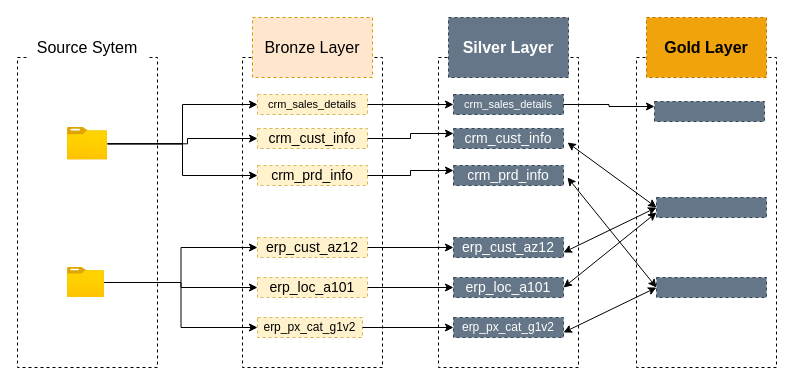
Some shapes in this 794 by 385 pixel diagram are drawn without their labels. The shapes that lost their labels are listed below. From the top down, each one's centre as x and y in pixels, then its label:
the point at 709,111: dim_customers
the point at 87,143: CRM
the point at 711,207: dim_products
the point at 85,282: ERP
the point at 711,287: fact_sales
